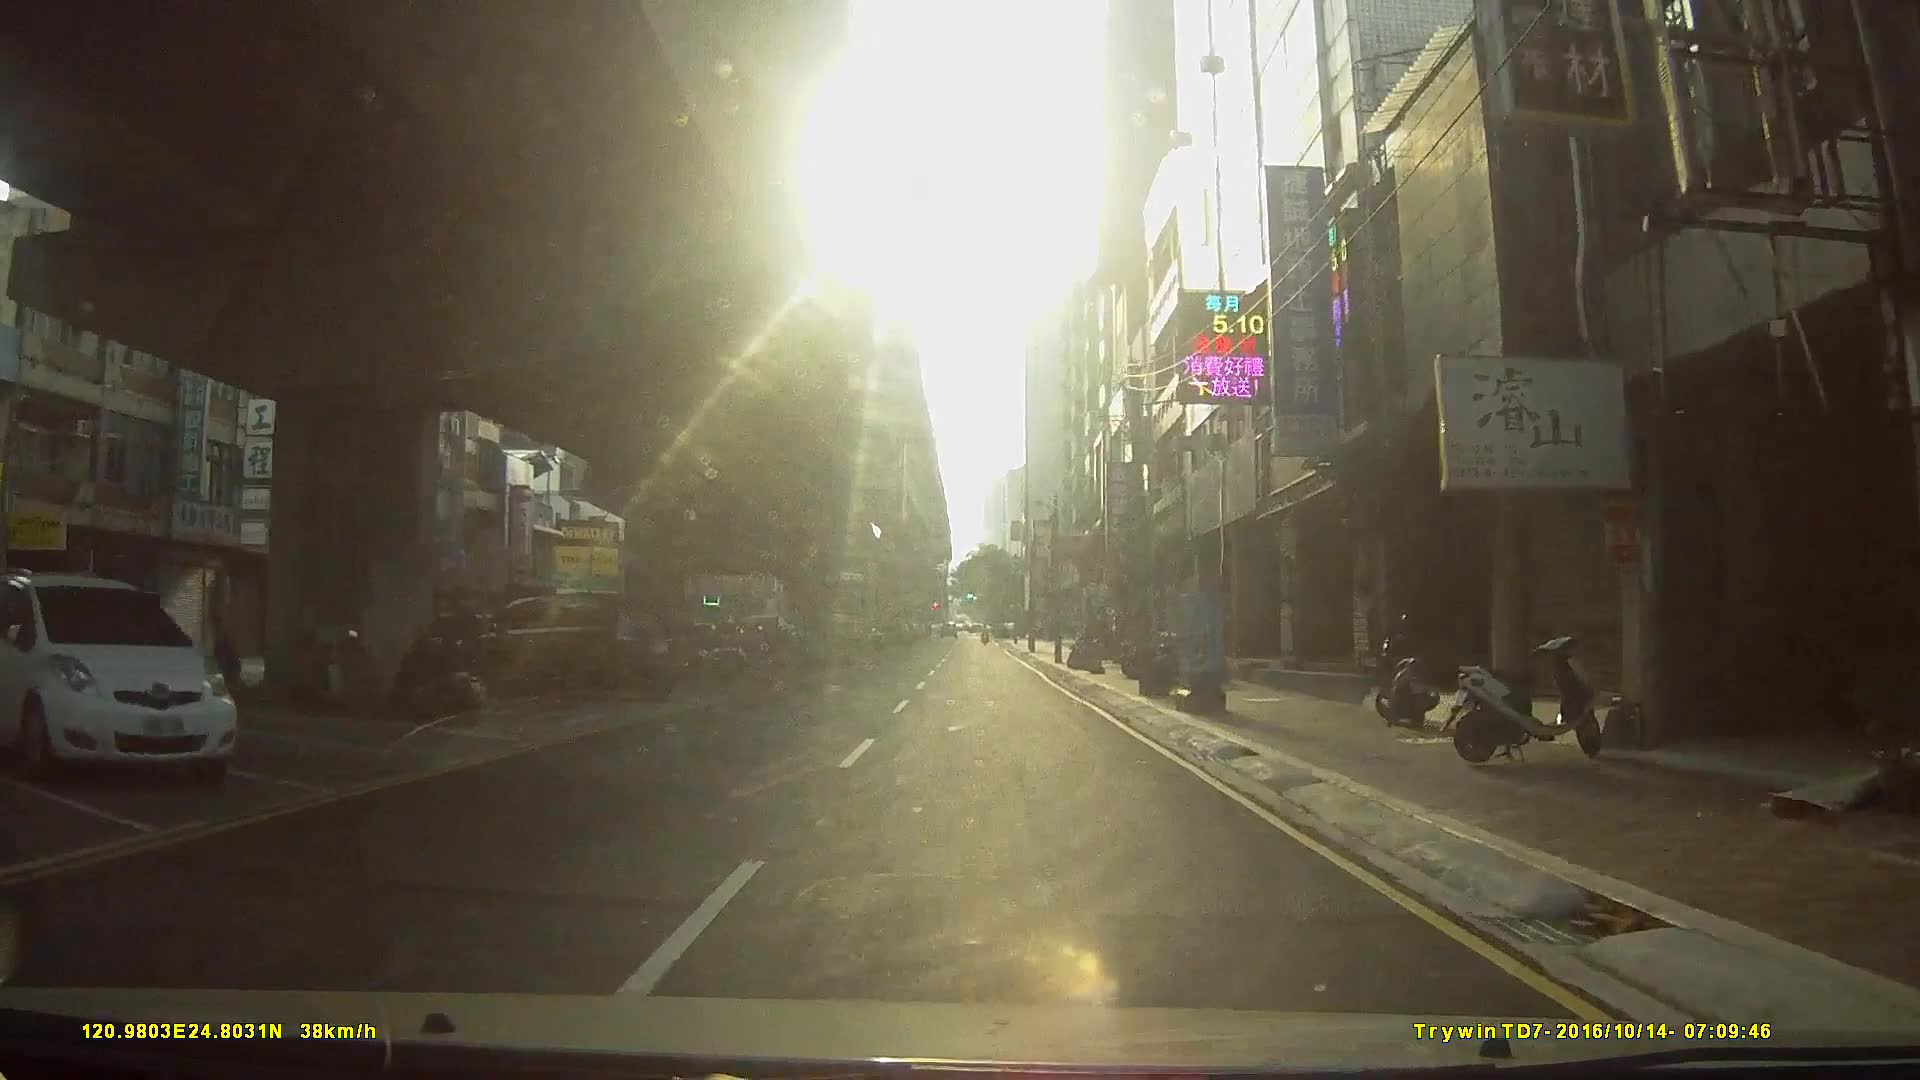vehicle: (0, 564, 236, 782), (455, 589, 690, 699), (624, 618, 746, 684)
